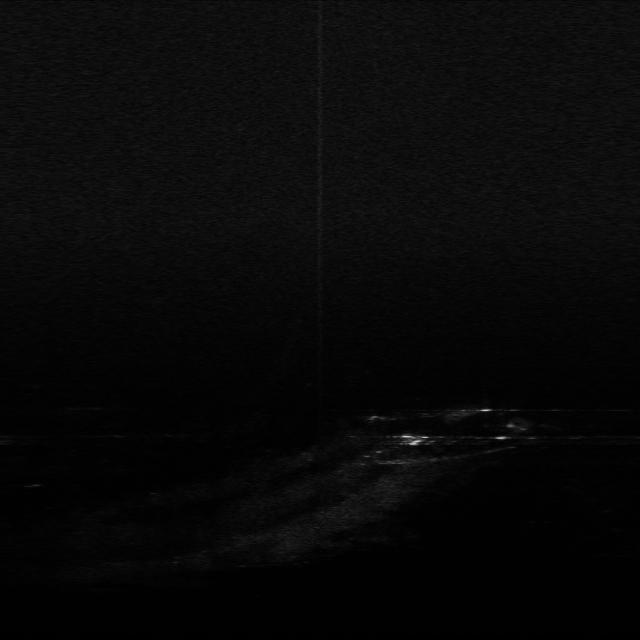rov: (396, 432, 432, 449)
